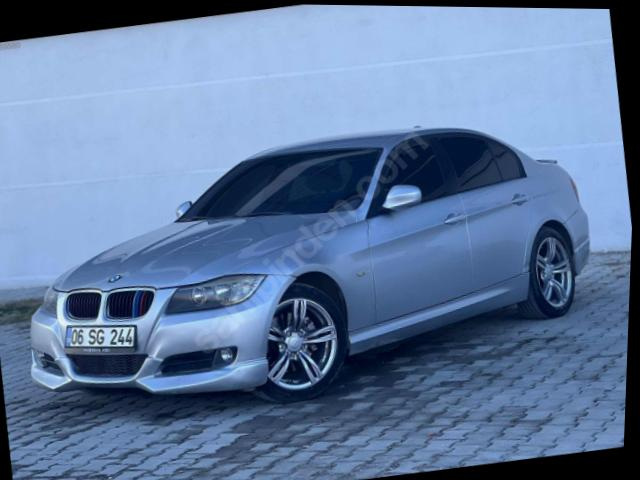plaka: (65, 326, 135, 348)
